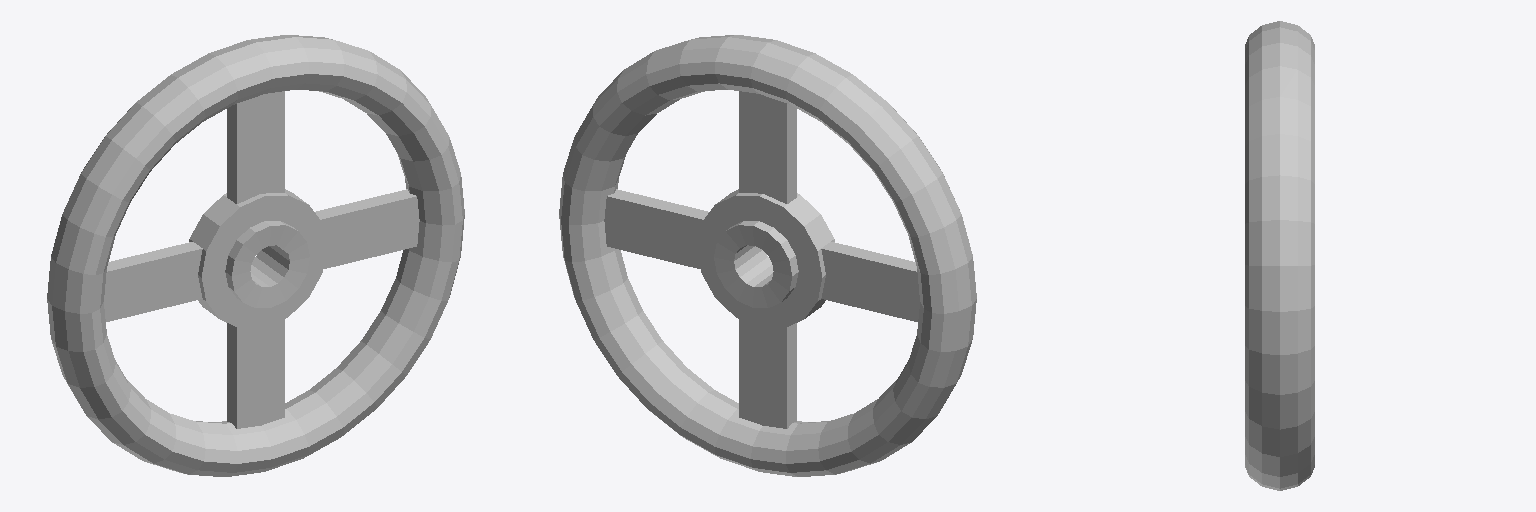
File: ValveWheel.obj
3 views of the same model, side by side, from view 1: azimuth 30°, elevation 25°; view 2: azimuth 150°, elevation 25°; view 3: azimuth 270°, elevation 25° (orthographic).
Parts seen in each view (by area): view 1: Valve_Wheel_Cylinder.003; view 2: Valve_Wheel_Cylinder.003; view 3: Valve_Wheel_Cylinder.003.
Boxes of the visible parts, x1,y1,x2,y2 form: Valve_Wheel_Cylinder.003: [47, 35, 464, 476]; Valve_Wheel_Cylinder.003: [559, 35, 976, 476]; Valve_Wheel_Cylinder.003: [1245, 21, 1314, 490].
Bounding box in the file's own units: 0.3412 × 0.3412 × 0.0511.